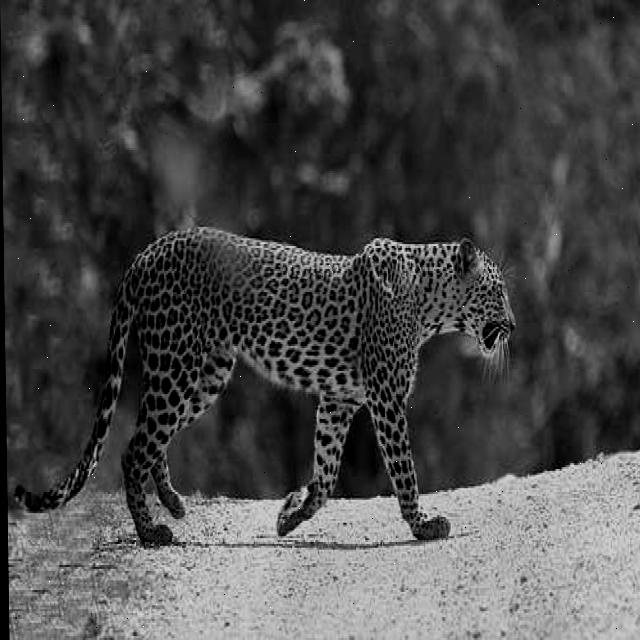Leopard: (59, 174, 554, 556)
